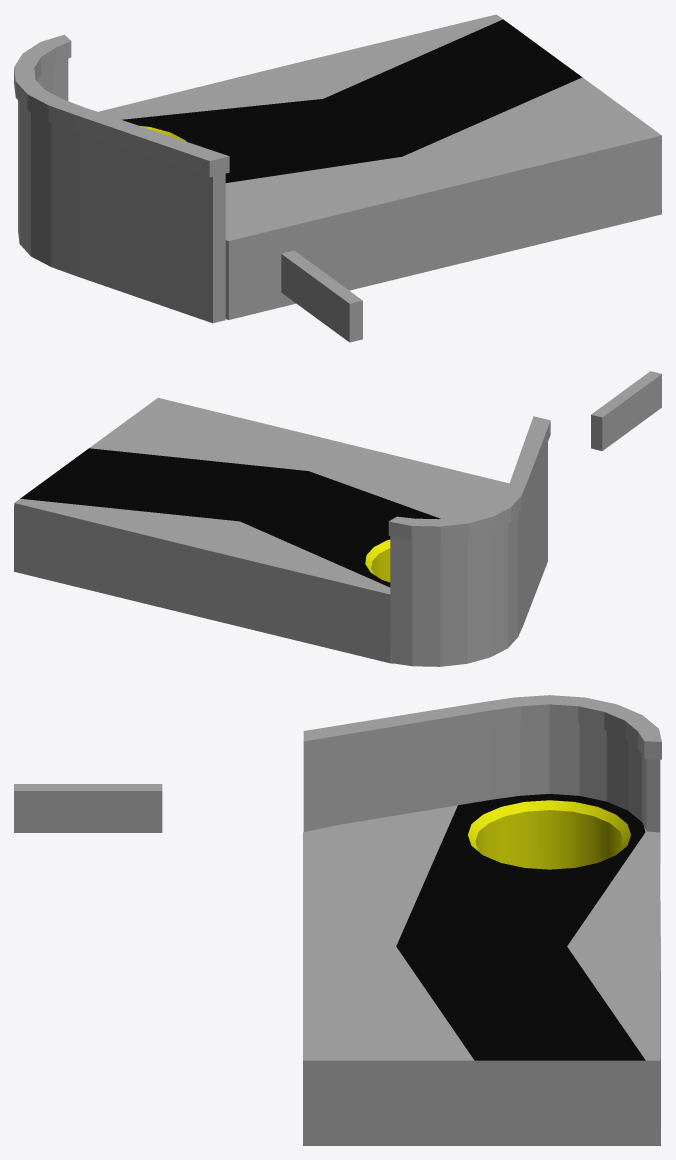
File: bilardo yolu delikler4.fbx
The picture shows the model from 3 angles, top to bottom: view 1: azimuth 30°, elevation 25°; view 2: azimuth 150°, elevation 25°; view 3: azimuth 270°, elevation 25°; orthographic projection. The views are drawn at different scales.
Parts seen in each view (by area): view 1: Box056, polySurface6, polySurface4; view 2: Box056, polySurface6, polySurface4; view 3: Box056, polySurface6, polySurface4.
Part boxes in pixels (x1,y1,x2,y2): Box056: (98, 14, 661, 319); polySurface6: (14, 34, 229, 323); polySurface4: (281, 250, 362, 342); Box056: (14, 397, 509, 663); polySurface6: (388, 416, 550, 666); polySurface4: (591, 371, 661, 450); Box056: (303, 794, 660, 1145); polySurface6: (303, 695, 661, 864); polySurface4: (14, 784, 162, 832).
Bounding box in the file's own units: 269 × 80.6 × 268.
